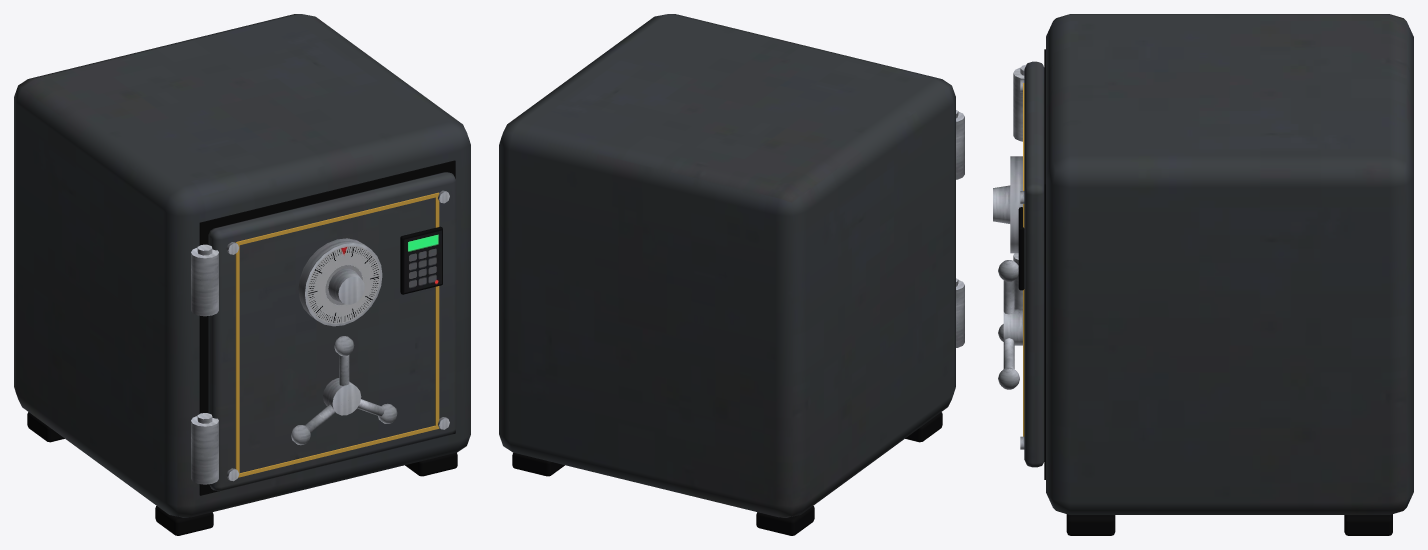
The model's file is prop_safe.glb.
3 views of the same model, side by side, from view 1: azimuth 30°, elevation 25°; view 2: azimuth 150°, elevation 25°; view 3: azimuth 270°, elevation 25° (orthographic). The views are drawn at different scales.
Visible parts, largest first — view 1: prop; view 2: prop; view 3: prop.
Boxes of the visible parts, <box> form: prop: <box>14,14,470,535</box>; prop: <box>499,14,964,535</box>; prop: <box>993,14,1413,535</box>.
Size of the model in its own units: 0.55 by 0.6 by 0.606.
Materials: 7 (5 with a texture image).
